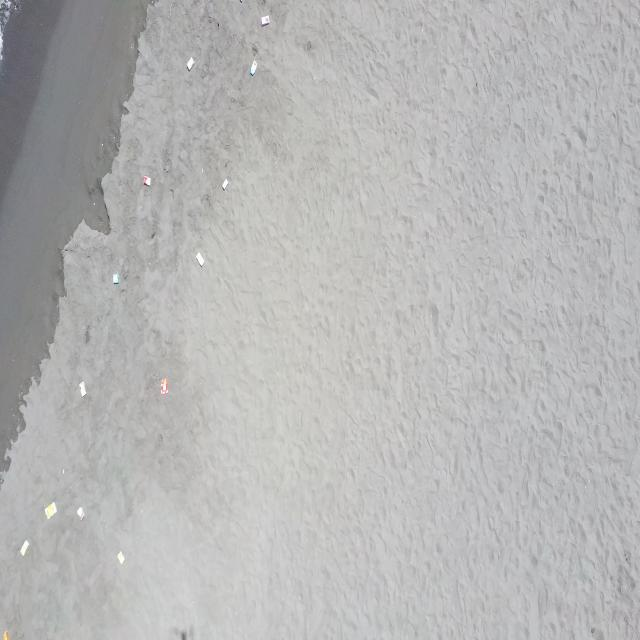retort-pouch: (44, 500, 58, 520), (78, 380, 88, 400), (160, 378, 169, 398), (20, 539, 30, 557), (249, 58, 258, 77), (195, 251, 205, 268), (186, 56, 195, 72), (76, 506, 85, 522), (260, 14, 270, 28), (117, 550, 125, 566), (143, 174, 151, 188), (220, 178, 228, 192), (112, 274, 119, 286), (2, 630, 10, 640)
